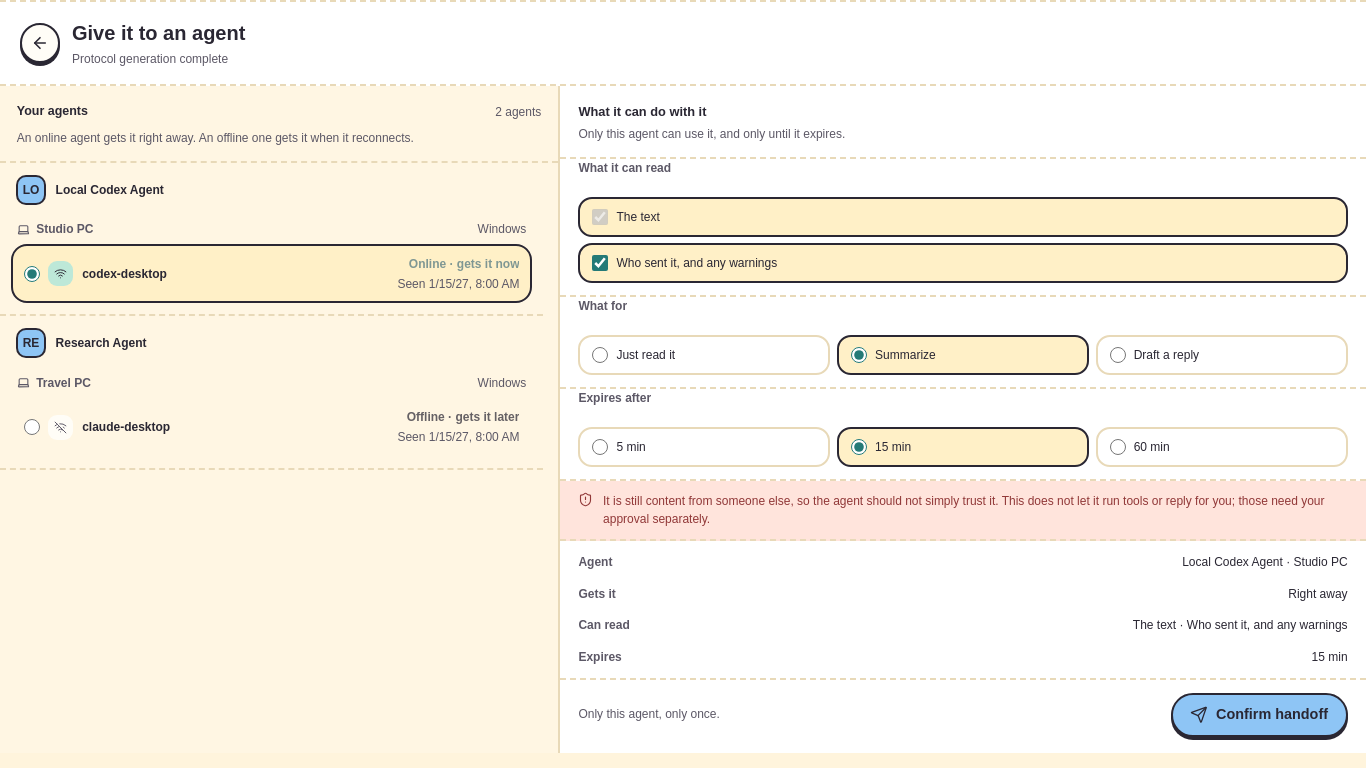
Scenario: HandoffPanel › 按 Agent 与设备展示账号目标，并允许明确选择离线队列
Expected: the text "Local Codex Agent" is shown, [56,183,164,197]
Expected: the text "Research Agent" is shown, [56,336,146,350]
Click the radio button labelled "claude-desktop Offline · gets it later Seen 1/15/27, 8:00 AM": [32, 427] box [24,419,40,435]
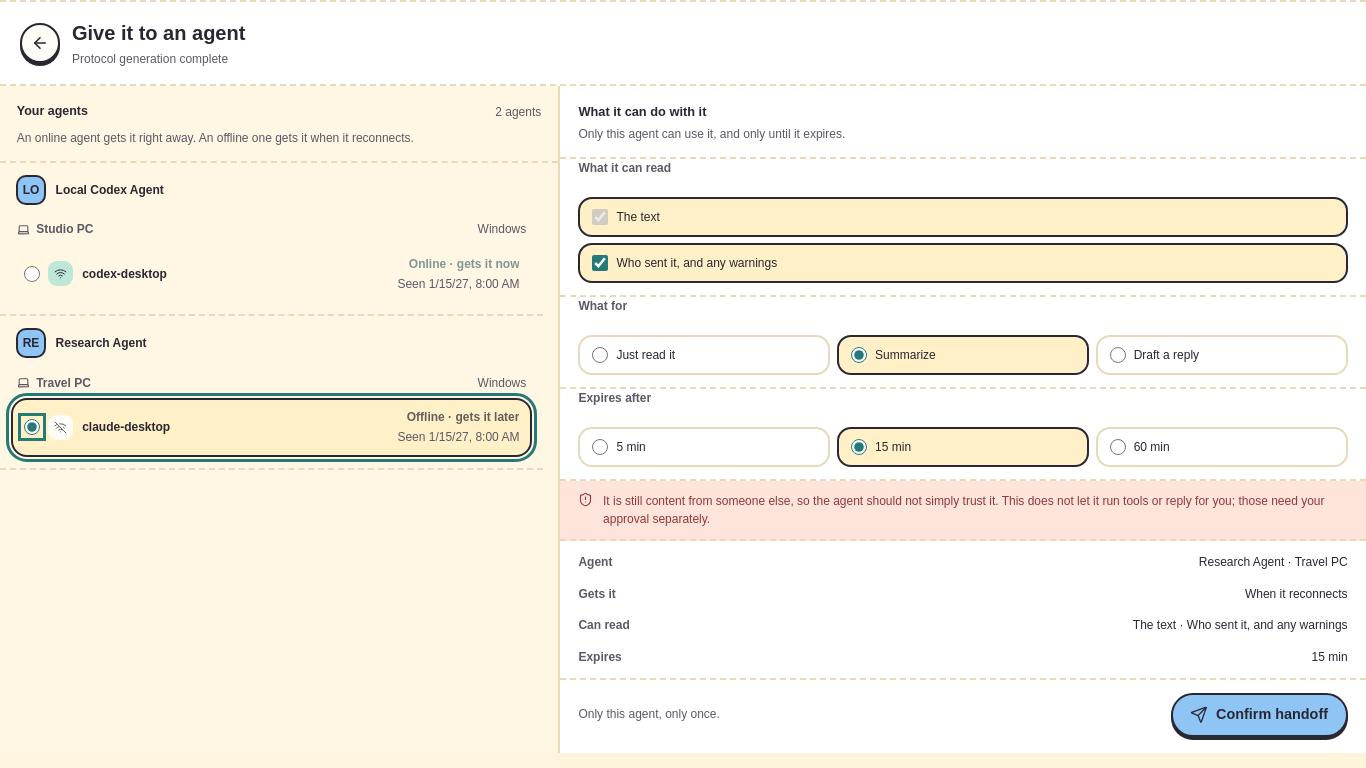
Now the text "When it reconnects" is shown, box [1245,587,1348,601]
Click the button "Confirm handoff": [1259, 715] box [1171,693,1348,736]
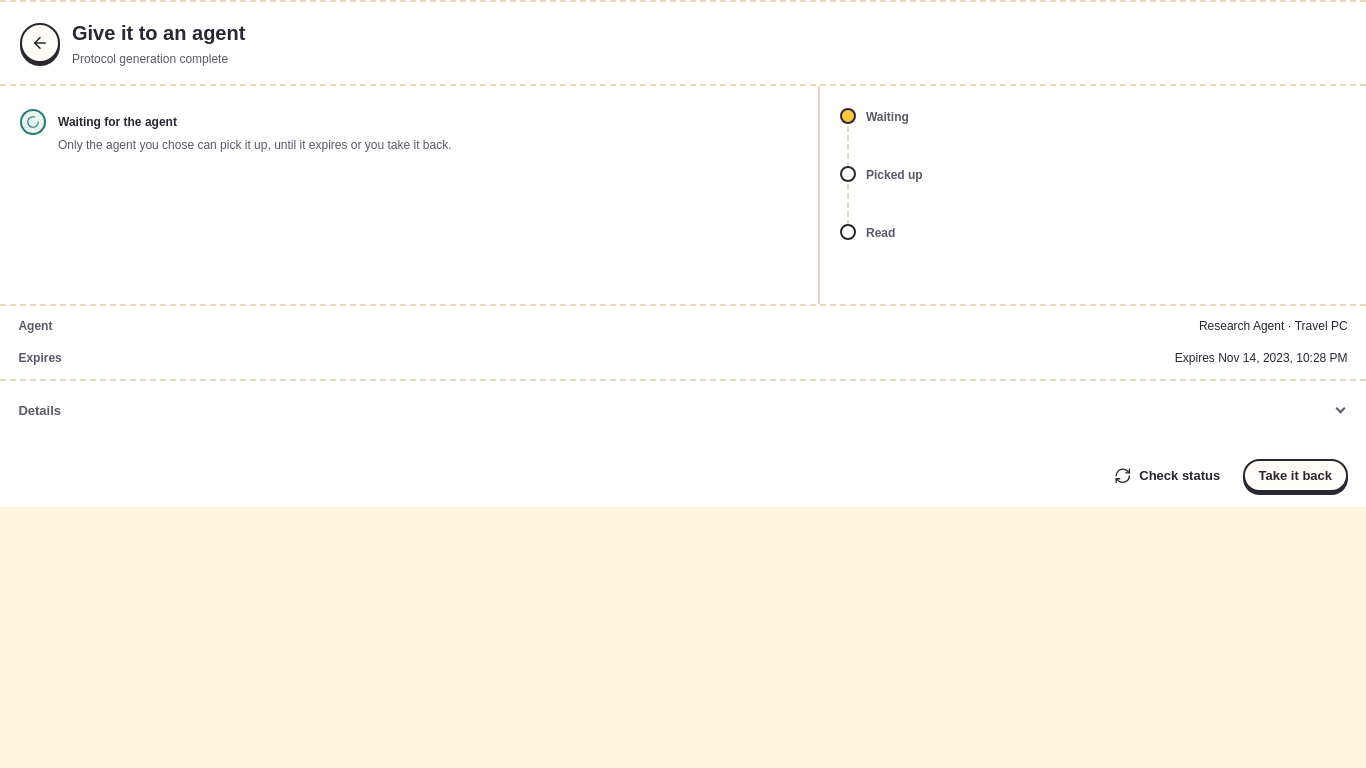
Now the text "Waiting for the agent" is shown, box [58,115,177,129]
